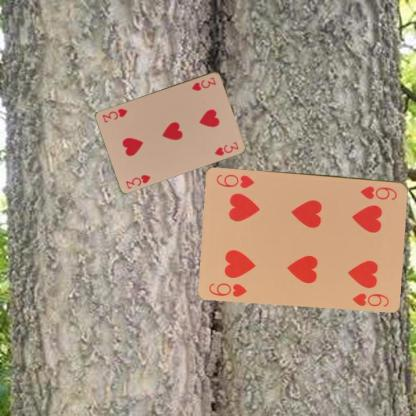3h: (123, 172, 152, 190), (189, 74, 217, 92)
6h: (206, 280, 249, 298), (358, 183, 399, 201)
